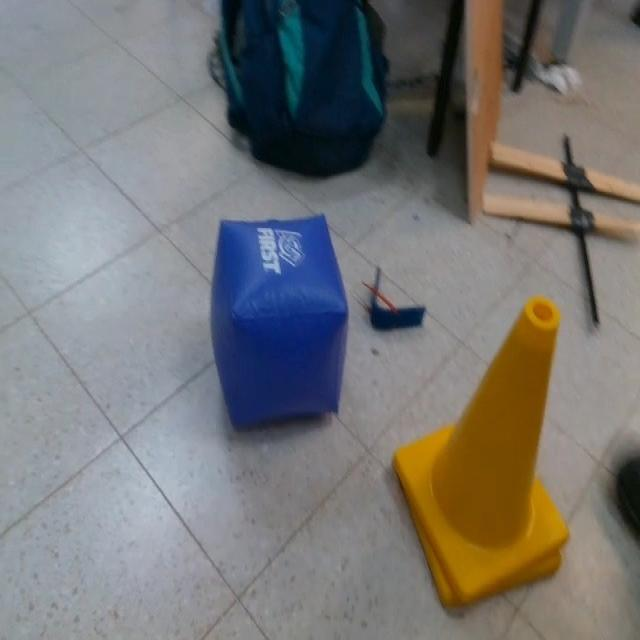cone: (392, 294, 570, 614)
cube: (211, 213, 350, 432)
